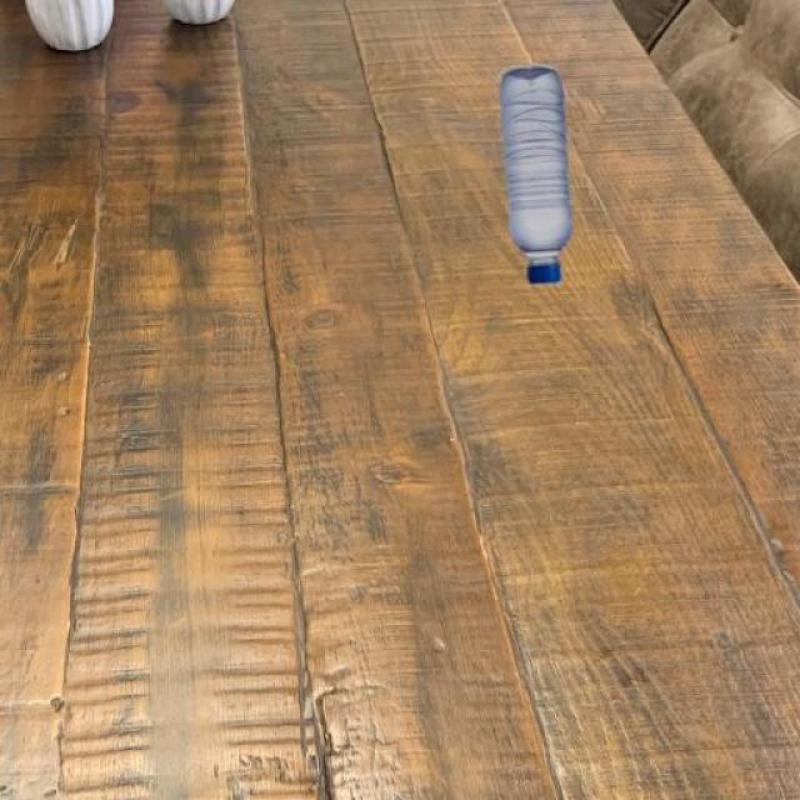botella: (497, 66, 572, 284)
